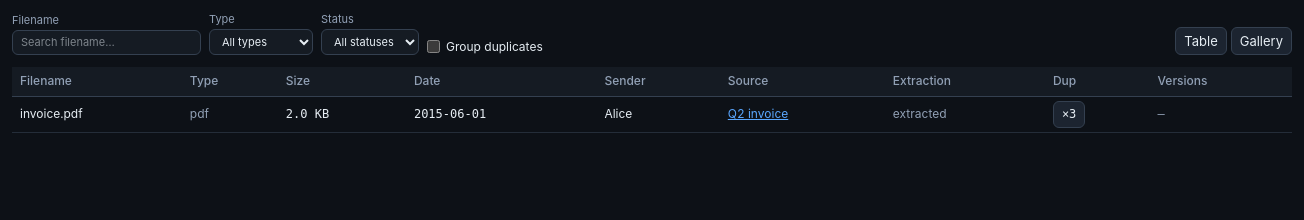
Scenario: FilesPage › duplicate expand shows occurrences
Expected: the element with test id "files-table" is shown, [12, 67, 1292, 133]
What coordinates should you click on to do the following:
click the checkbox with test id "files-group-dup"
I would click on:
 (434, 47)
Its box is [427, 40, 440, 54].
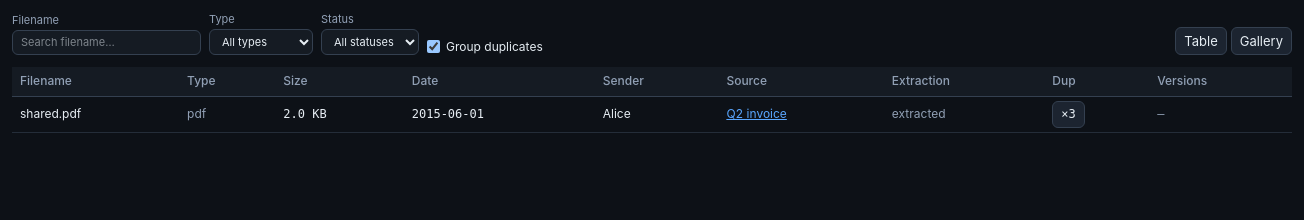
Expected: the row with test id "file-row-att_dup" is shown, [12, 97, 1292, 132]
What coordinates should you click on to do the following:
click the button with test id "dup-badge-att_dup"
I would click on:
 (1069, 115)
Its box is [1052, 101, 1085, 128].
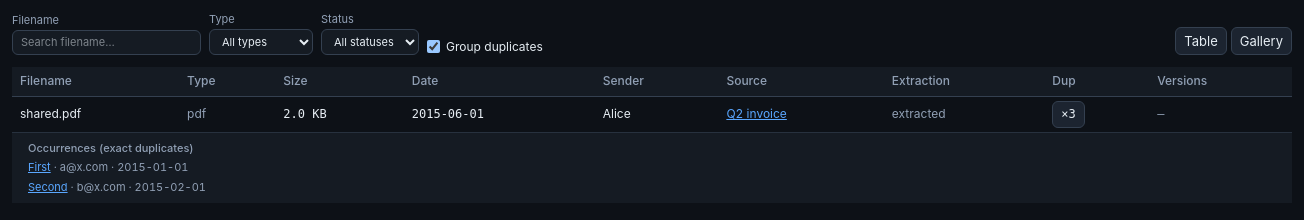
Now the button "First" is shown, box [28, 160, 51, 176]
Now the button "Second" is shown, box [28, 180, 68, 195]
